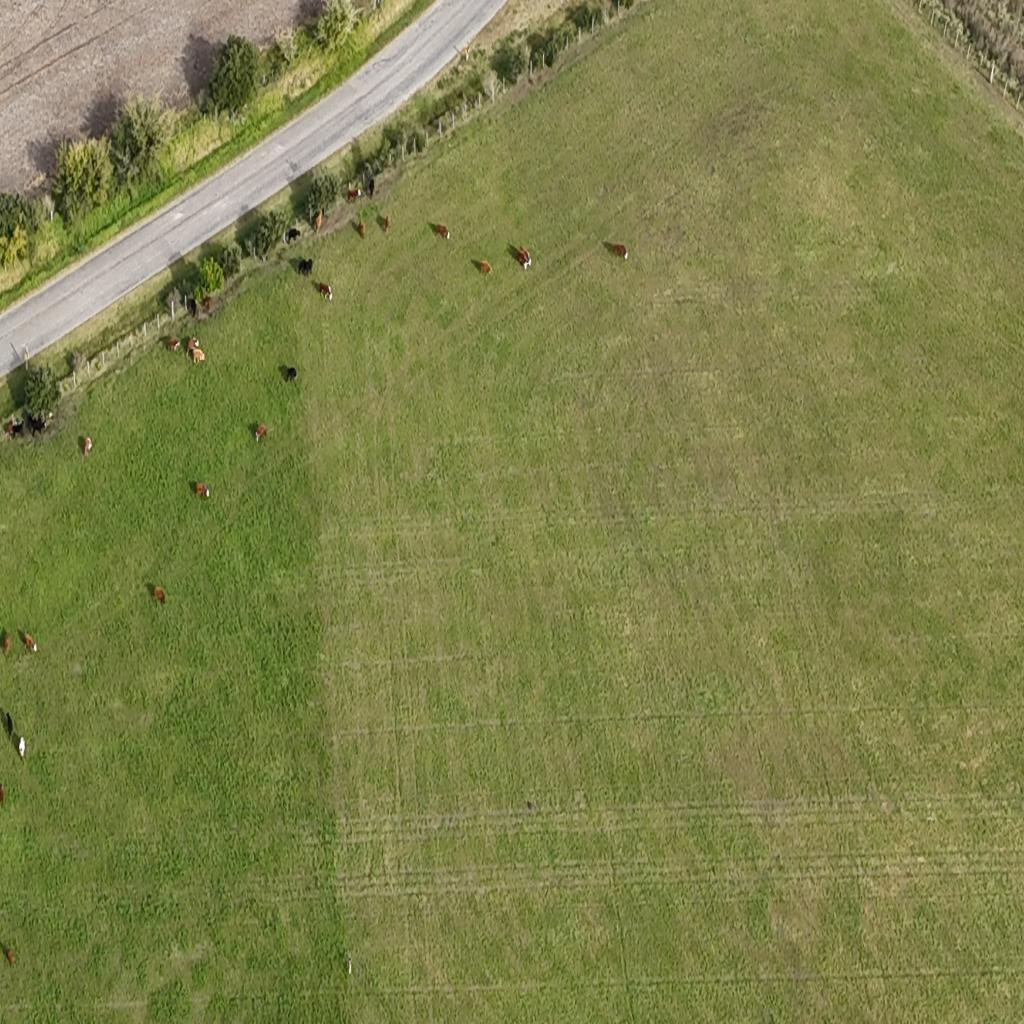cow: (1, 944, 16, 972), (30, 416, 46, 438), (432, 223, 450, 242), (187, 347, 208, 363), (10, 418, 25, 440), (194, 481, 210, 501), (22, 631, 36, 653), (610, 243, 628, 260), (299, 260, 314, 280), (515, 248, 528, 271), (186, 335, 200, 356), (153, 586, 167, 607), (318, 282, 332, 302), (254, 422, 268, 442), (347, 186, 362, 204), (2, 631, 12, 658), (187, 296, 199, 318), (18, 735, 27, 762), (4, 419, 15, 441), (521, 242, 532, 264), (477, 260, 492, 276), (283, 366, 297, 383), (81, 437, 93, 456), (286, 228, 300, 244), (5, 710, 13, 738), (257, 244, 268, 264), (200, 295, 212, 313), (461, 43, 471, 64), (168, 338, 180, 354), (356, 220, 366, 239), (314, 210, 322, 233), (367, 176, 375, 199), (0, 783, 6, 806), (384, 214, 390, 236)
